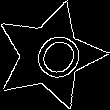O_SW: (16, 22, 83, 89)
